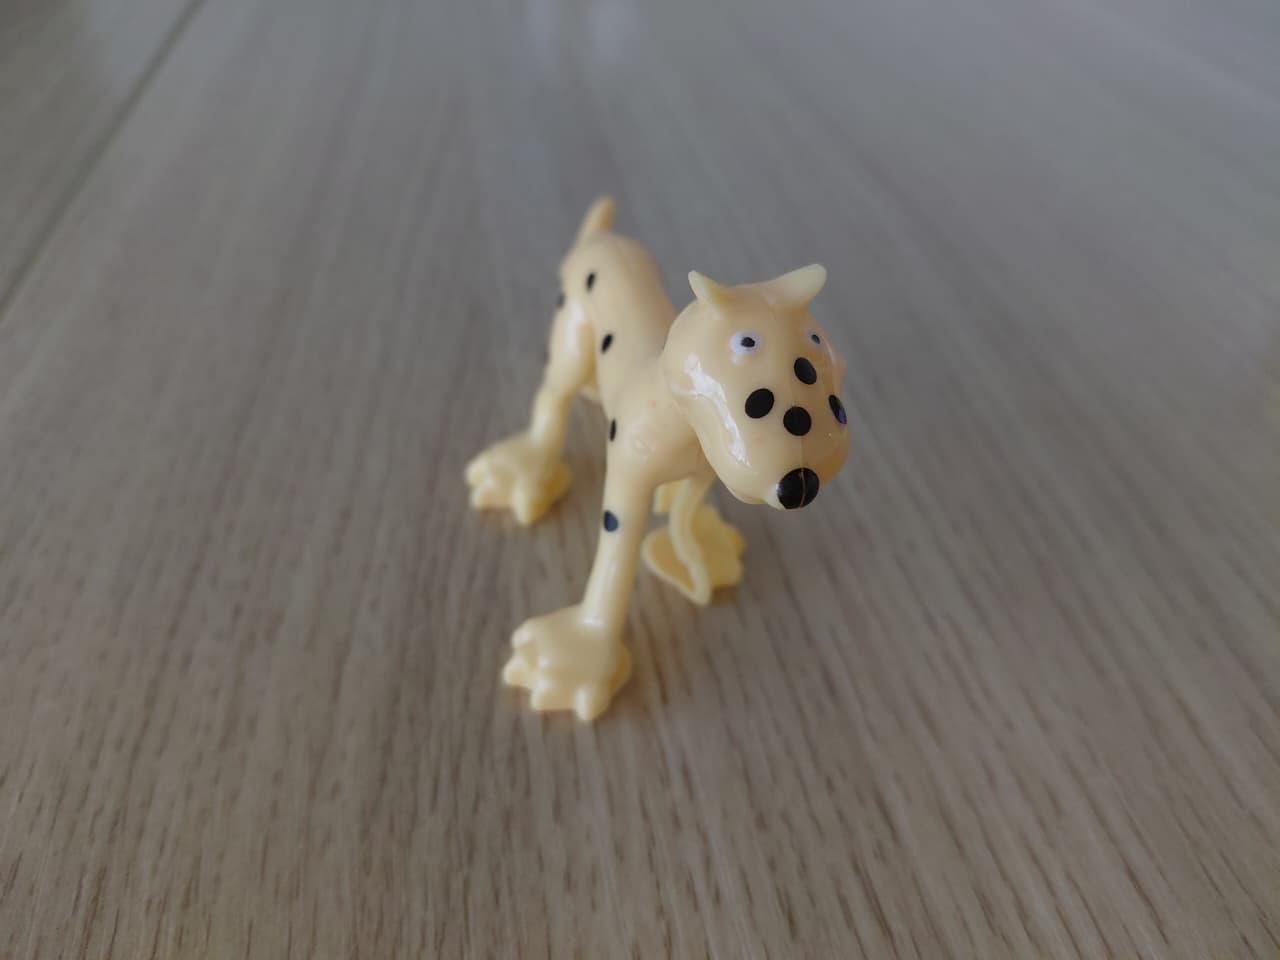cheetah: (378, 138, 936, 756)
